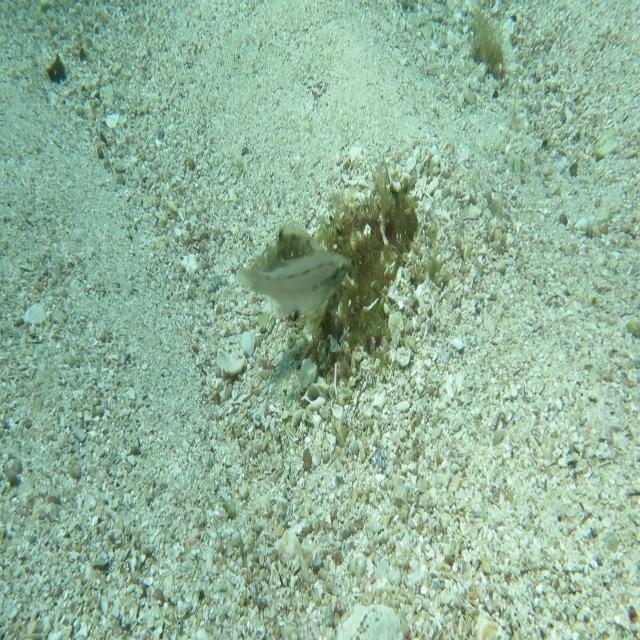DAN_CIRC: (249, 217, 349, 305)
female: (235, 253, 354, 324)
nest: (304, 150, 428, 371)
